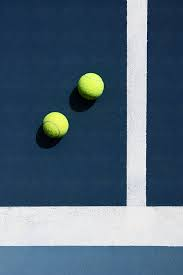tennis_ball: (77, 71, 105, 100), (42, 111, 69, 138)
